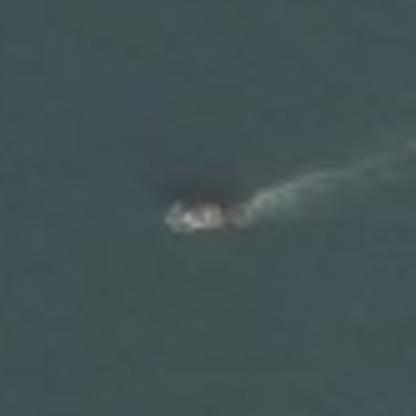ship: (158, 190, 254, 242)
